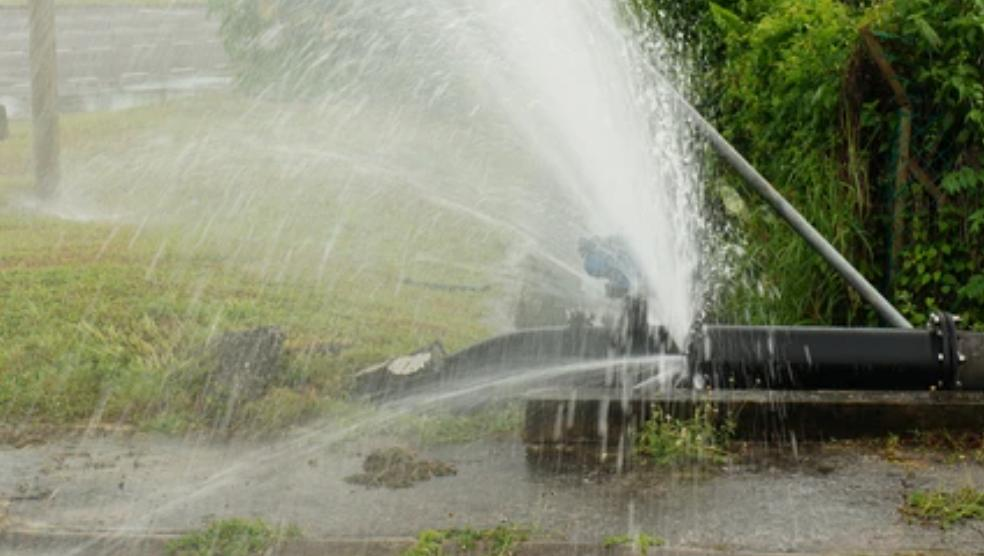pipe burst: (53, 0, 712, 556)
water accumulation: (0, 437, 984, 556)
